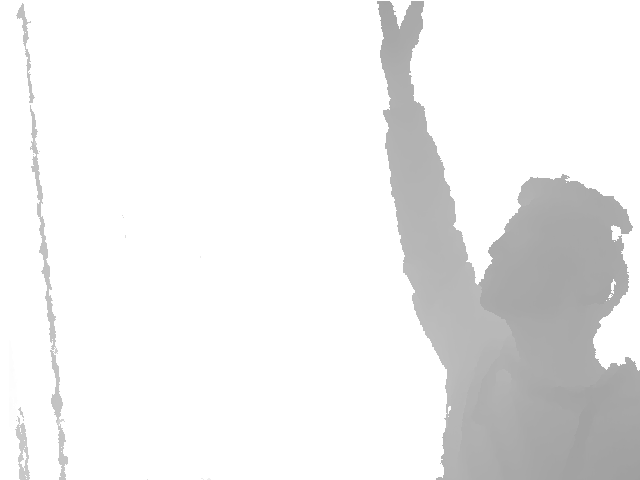hand: (380, 1, 424, 85)
head: (479, 174, 633, 350)
person: (379, 1, 640, 480)
